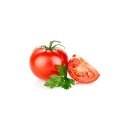tomato: (30, 47, 68, 80), (68, 54, 101, 84)
